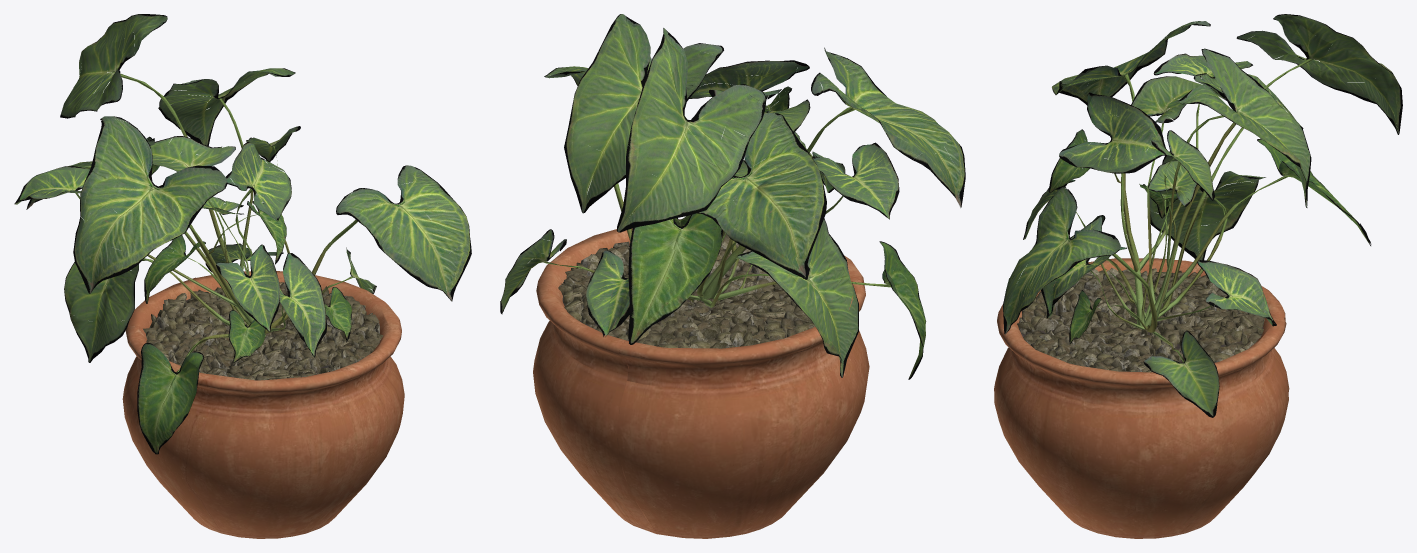
The model's file is ph_plant_wide.glb.
The picture shows the model from 3 angles, left to right: view 1: azimuth 30°, elevation 25°; view 2: azimuth 150°, elevation 25°; view 3: azimuth 270°, elevation 25°; orthographic projection. The views are drawn at different scales.
Parts seen in each view (by area): view 1: potted_plant_02_leaves, potted_plant_02_pot, potted_plant_02_dirt; view 2: potted_plant_02_leaves, potted_plant_02_pot, potted_plant_02_dirt; view 3: potted_plant_02_leaves, potted_plant_02_pot, potted_plant_02_dirt.
Boxes of the visible parts, x1,y1,x2,y2 form: potted_plant_02_leaves: (14, 14, 471, 454); potted_plant_02_pot: (122, 271, 404, 538); potted_plant_02_dirt: (143, 282, 383, 380); potted_plant_02_leaves: (500, 14, 965, 379); potted_plant_02_pot: (533, 219, 869, 538); potted_plant_02_dirt: (558, 232, 828, 348); potted_plant_02_leaves: (1003, 14, 1402, 417); potted_plant_02_pot: (994, 258, 1289, 538); potted_plant_02_dirt: (1017, 268, 1264, 372).
Bounding box in the file's own units: 0.7008 × 0.8416 × 0.657.
2 materials, 2 textured.
